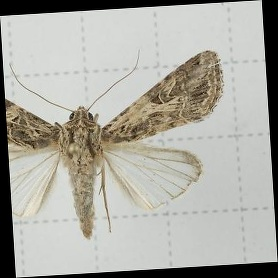Spodoptera litura: (8, 50, 228, 239)
